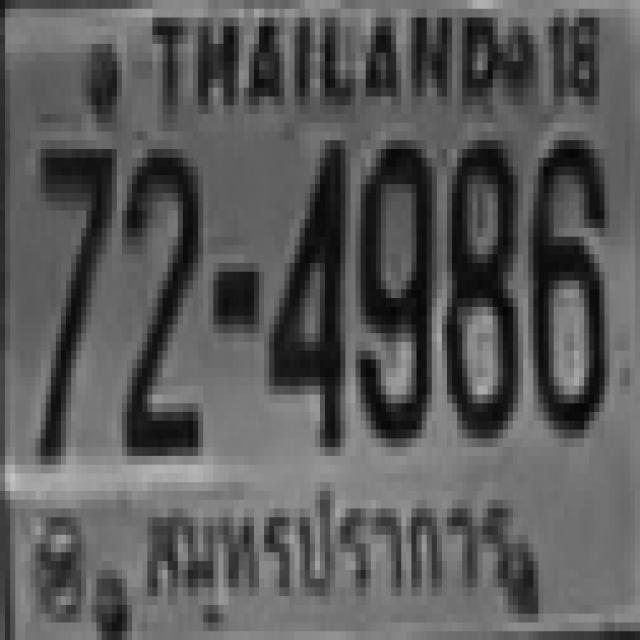2: (119, 140, 201, 447)
4: (264, 136, 340, 443)
6: (528, 132, 604, 430)
7: (36, 140, 111, 456)
8: (442, 132, 513, 430)
9: (356, 132, 432, 438)
SamutPrakan: (138, 468, 526, 606)
